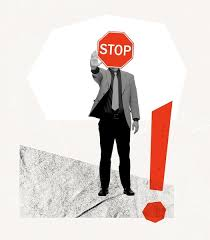stop sign: (98, 31, 133, 67)
